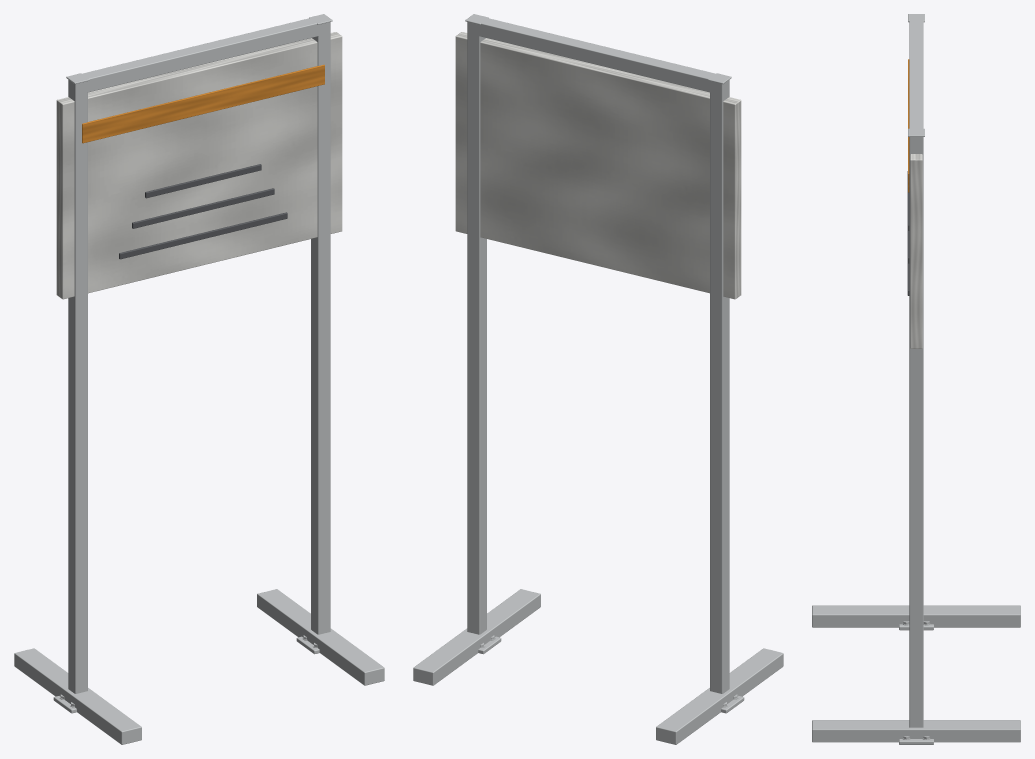
File: fps-weapon-set-and-firing-range-safety-sign-3156e80c__19509.glb
3 renders of one model, left to right at view 1: azimuth 30°, elevation 25°; view 2: azimuth 150°, elevation 25°; view 3: azimuth 270°, elevation 25°, orthographic. The views are drawn at different scales.
Parts seen in each view (by area): view 1: safety-sign; view 2: safety-sign; view 3: safety-sign.
Boxes of the visible parts, x1,y1,x2,y2 form: safety-sign: (14,14,384,744); safety-sign: (413,14,783,744); safety-sign: (812,14,1020,744).
Bounding box in the file's own units: 0.75 × 1.6 × 0.5001.
Materials: 4 (2 with a texture image).
